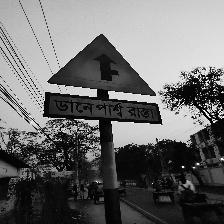Side-road-right: (45, 34, 160, 124)
